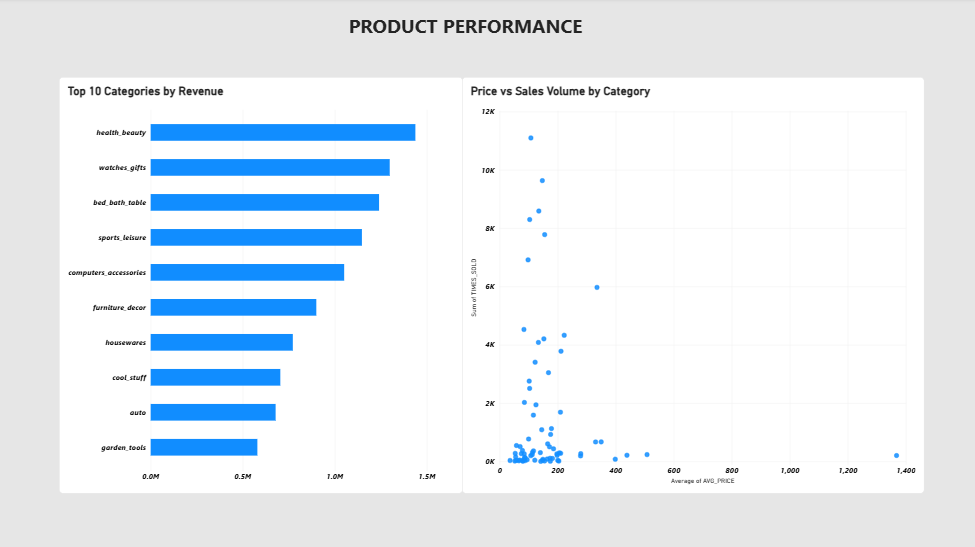

Layout of this report page (visuals, bound fields, positions):
{"tool":"powerbi","page":{"name":"Page 3","canvas":[1920,1080],"ordinal":2},"visuals":[{"type":"clusteredBarChart","title":"Top 10 Categories by Revenue","fields":{"Category":["MART_PRODUCT_PERFORMANCE.PRODUCT_CATEGORY"],"Y":["Sum(MART_PRODUCT_PERFORMANCE.TOTAL_REVENUE)"]},"box":[115,155,792.5,817.5],"z":0},{"type":"scatterChart","title":"Price vs Sales Volume by Category","fields":{"Category":["MART_PRODUCT_PERFORMANCE.PRODUCT_CATEGORY"],"X":["Avg(MART_PRODUCT_PERFORMANCE.AVG_PRICE)"],"Y":["Sum(MART_PRODUCT_PERFORMANCE.TIMES_SOLD)"]},"box":[907.5,155,907.5,817.5],"z":1},{"type":"textbox","box":[530,30,812.5,92.5],"z":2}]}

Visuals, with their boxes in screenshot pixels (x1, y1, x2, y2), scaled from the page's 1920x1080 canvas onto the 975x547 screenshot:
"Top 10 Categories by Revenue" clusteredBarChart: x1=58 y1=79 x2=461 y2=493
"Price vs Sales Volume by Category" scatterChart: x1=461 y1=79 x2=922 y2=493
textbox: x1=269 y1=15 x2=682 y2=62
